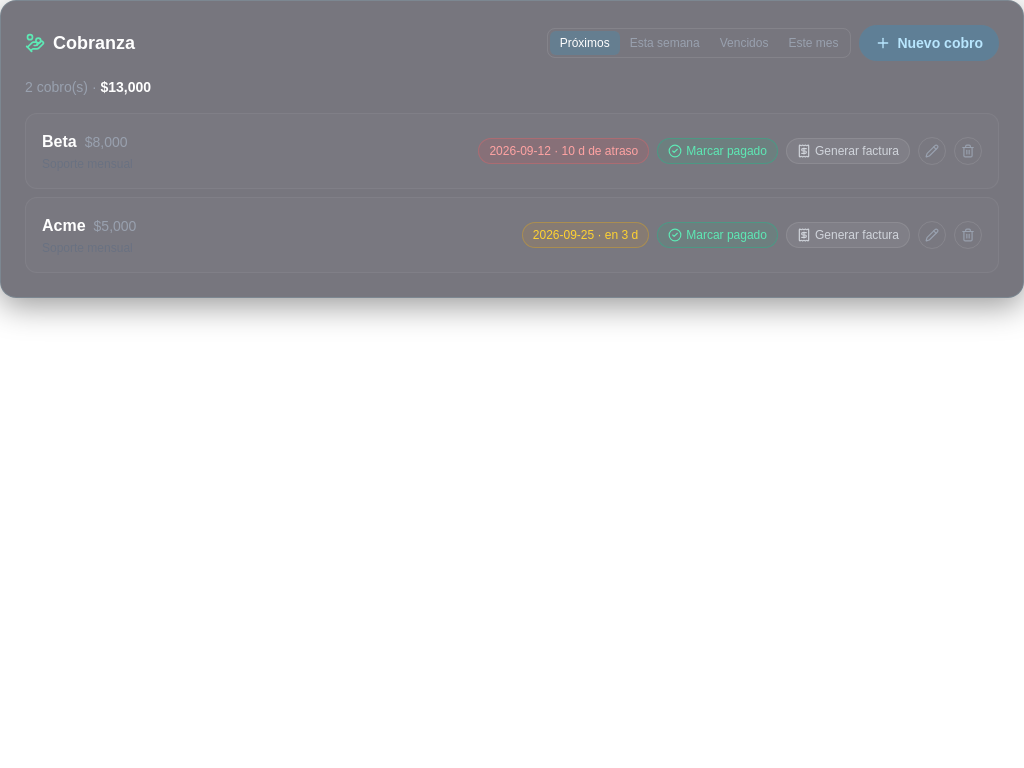
Scenario: CobranzaSection › opens an inline edit form for a charge and a confirm dialog to delete it
Click the button "Esta semana" at (665, 43), box [620,31,710,55]
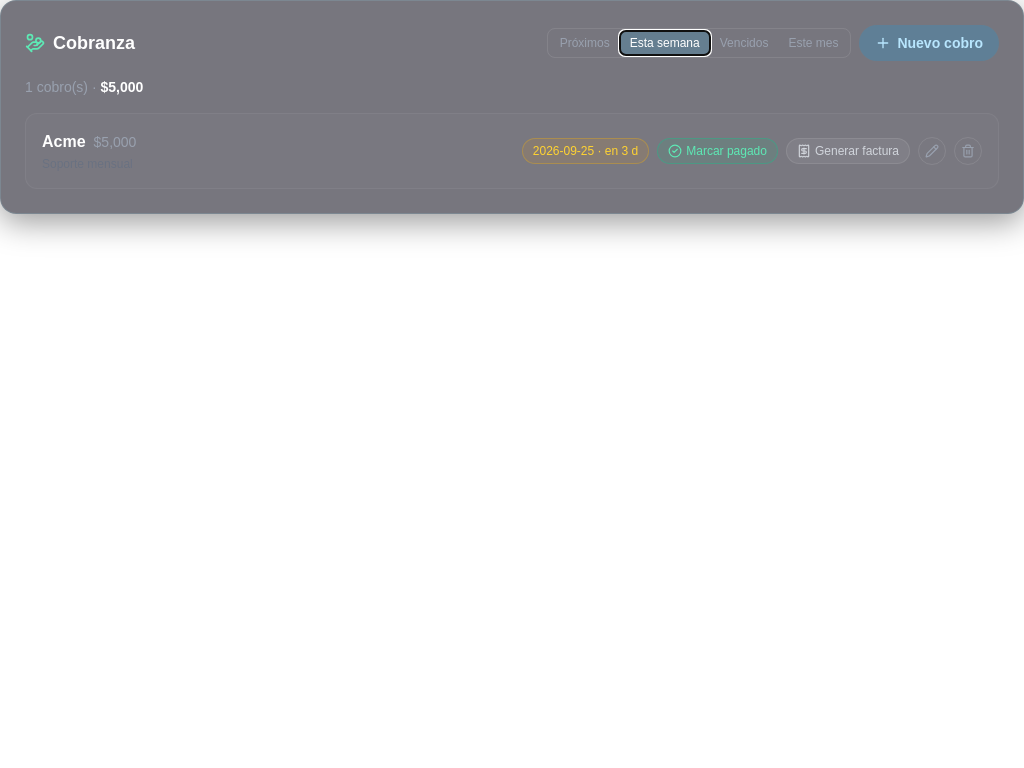
Click the button named "Editar cobro de Acme" at (932, 151), box [918,137,946,165]
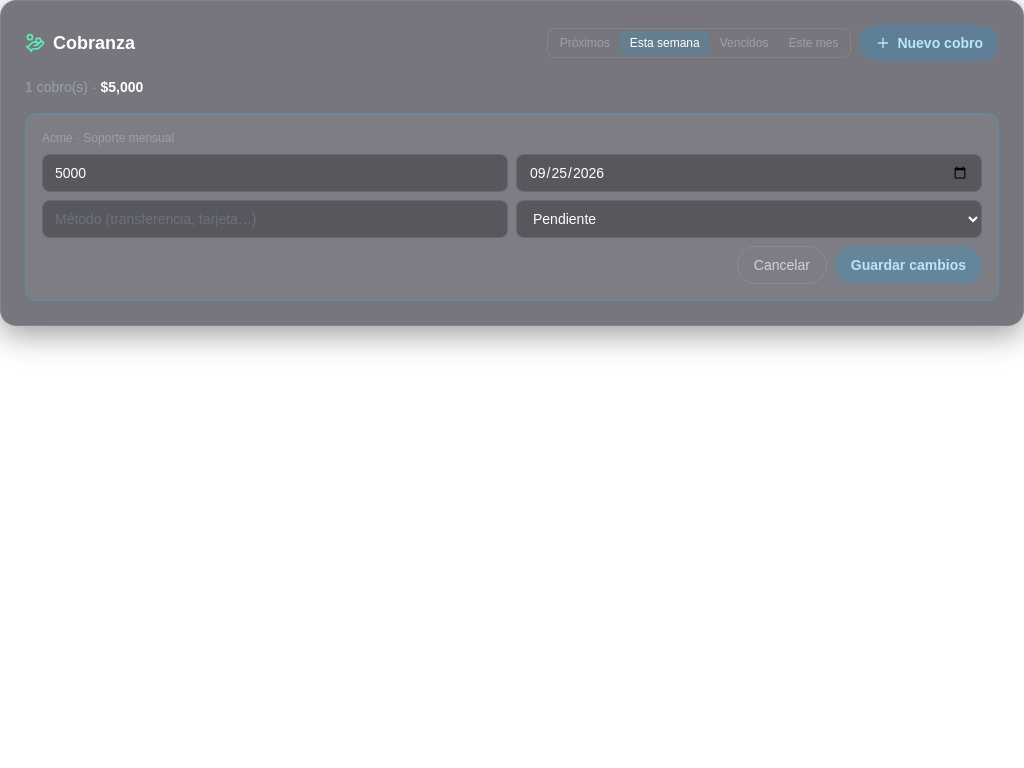
Result: the button "Guardar cambios" is shown at [835,246,982,284]
Click the button "Cancelar" at (782, 265), box [737,246,827,284]
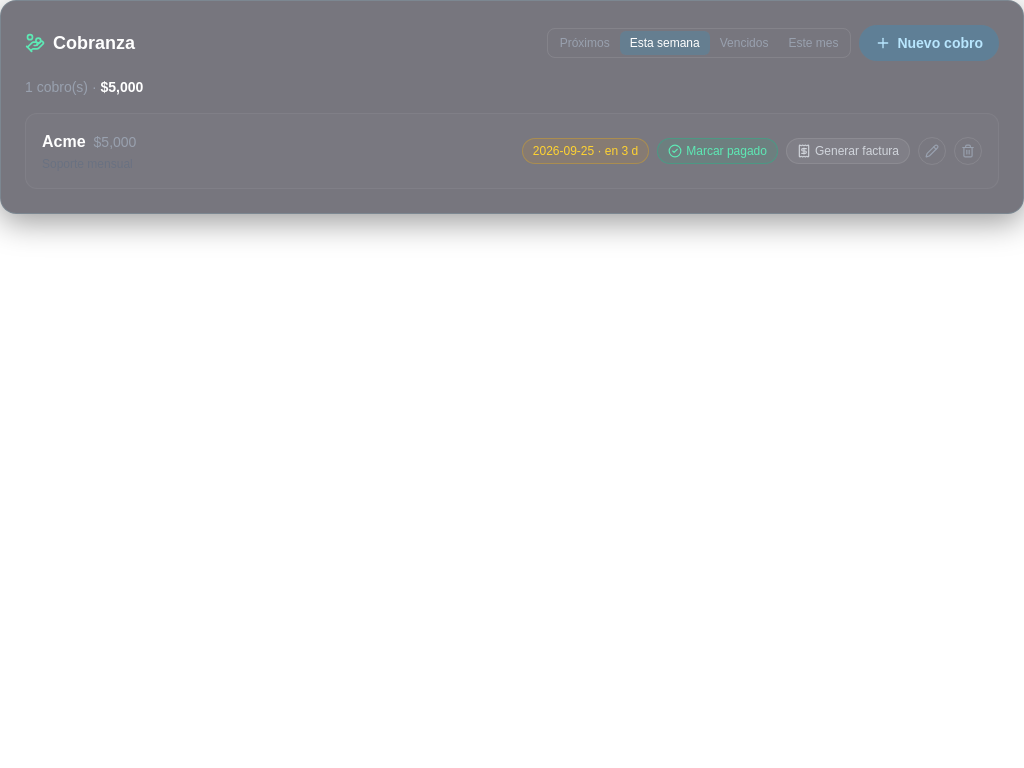
Click the button named "Eliminar cobro de Acme" at (968, 151), box [954,137,982,165]
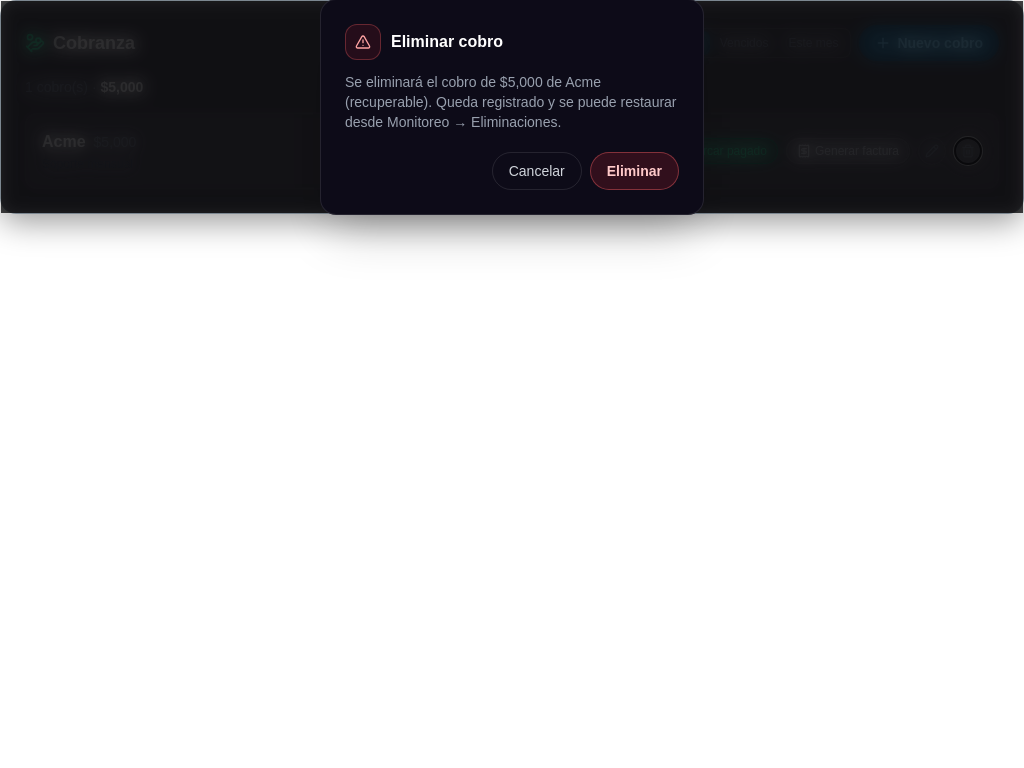
Result: the text "Se eliminará el cobro" is shown at [345,74,601,110]
